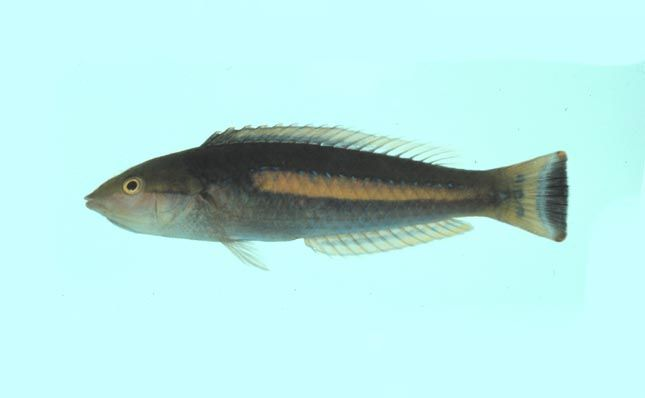fish: (84, 123, 570, 271)
